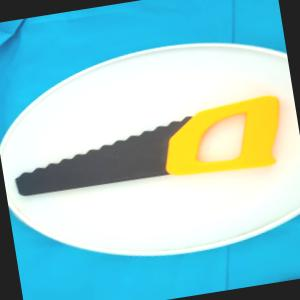serrote: (5, 91, 287, 206)
